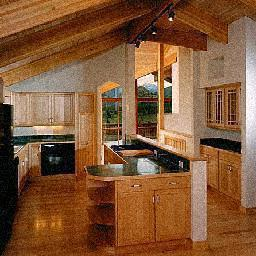Electrodomestico: (0, 104, 15, 246), (40, 141, 72, 177)
